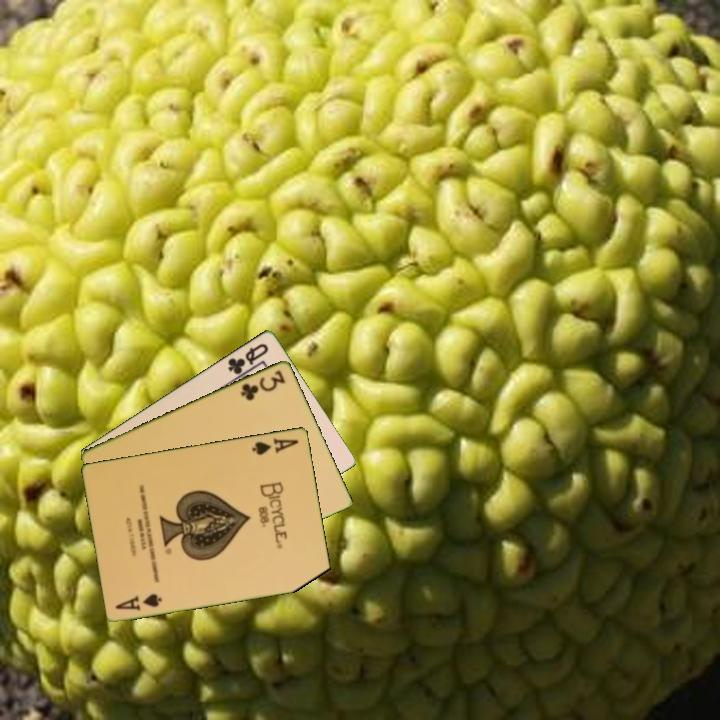3c: (237, 366, 288, 403)
As: (249, 434, 302, 458), (112, 590, 165, 613)
Qc: (224, 339, 272, 377)
